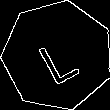L_NW: (31, 26, 83, 85)
